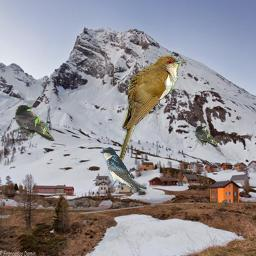Crow: (15, 105, 55, 141), (195, 126, 218, 147)
Cuckoo: (118, 54, 186, 168)
Swallow: (100, 147, 147, 193)
